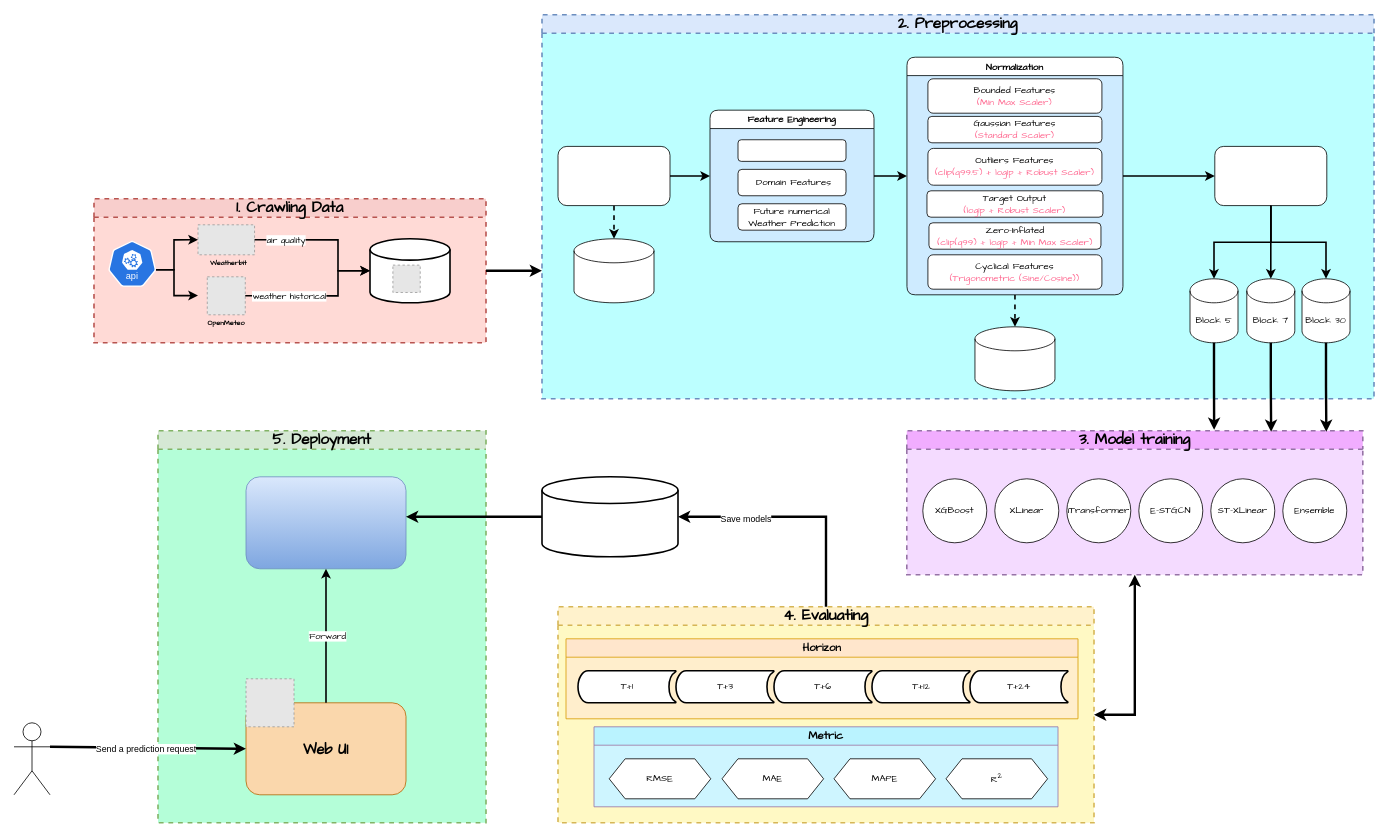
The diagram is 1389 pixels wide and 837 high, and some of its shapes have lost their labels. Grey dashed boxes stand in for pictures. The centre of each missing label's shape, as x and y in pixels:
"Actor" belongs at point 31,758.
"Block Split" belongs at point 1270,176.
"Data Cleaning" belongs at point 613,176.
"files clean" belongs at point 613,270.
"files normalize and files .pkl" belongs at point 1014,358.
"Lag & Rolling" belongs at point 791,150.
"Models" belongs at point 609,516.
"Models Prediction" belongs at point 325,522.
